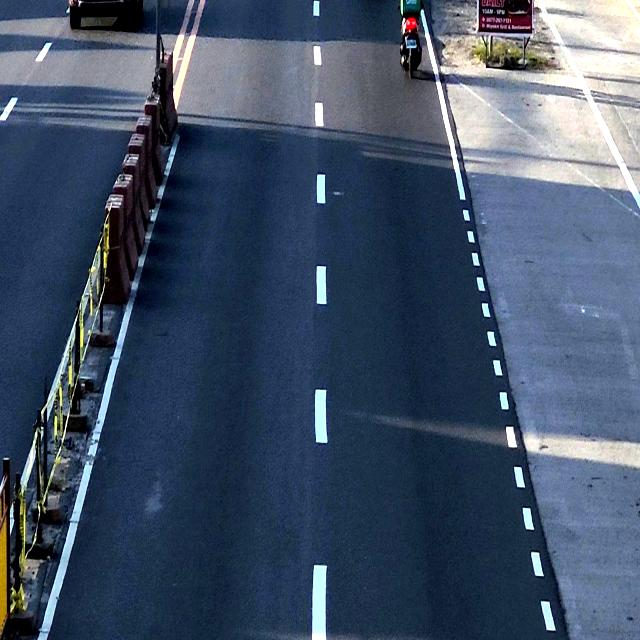Motorcycle: (398, 0, 425, 75)
